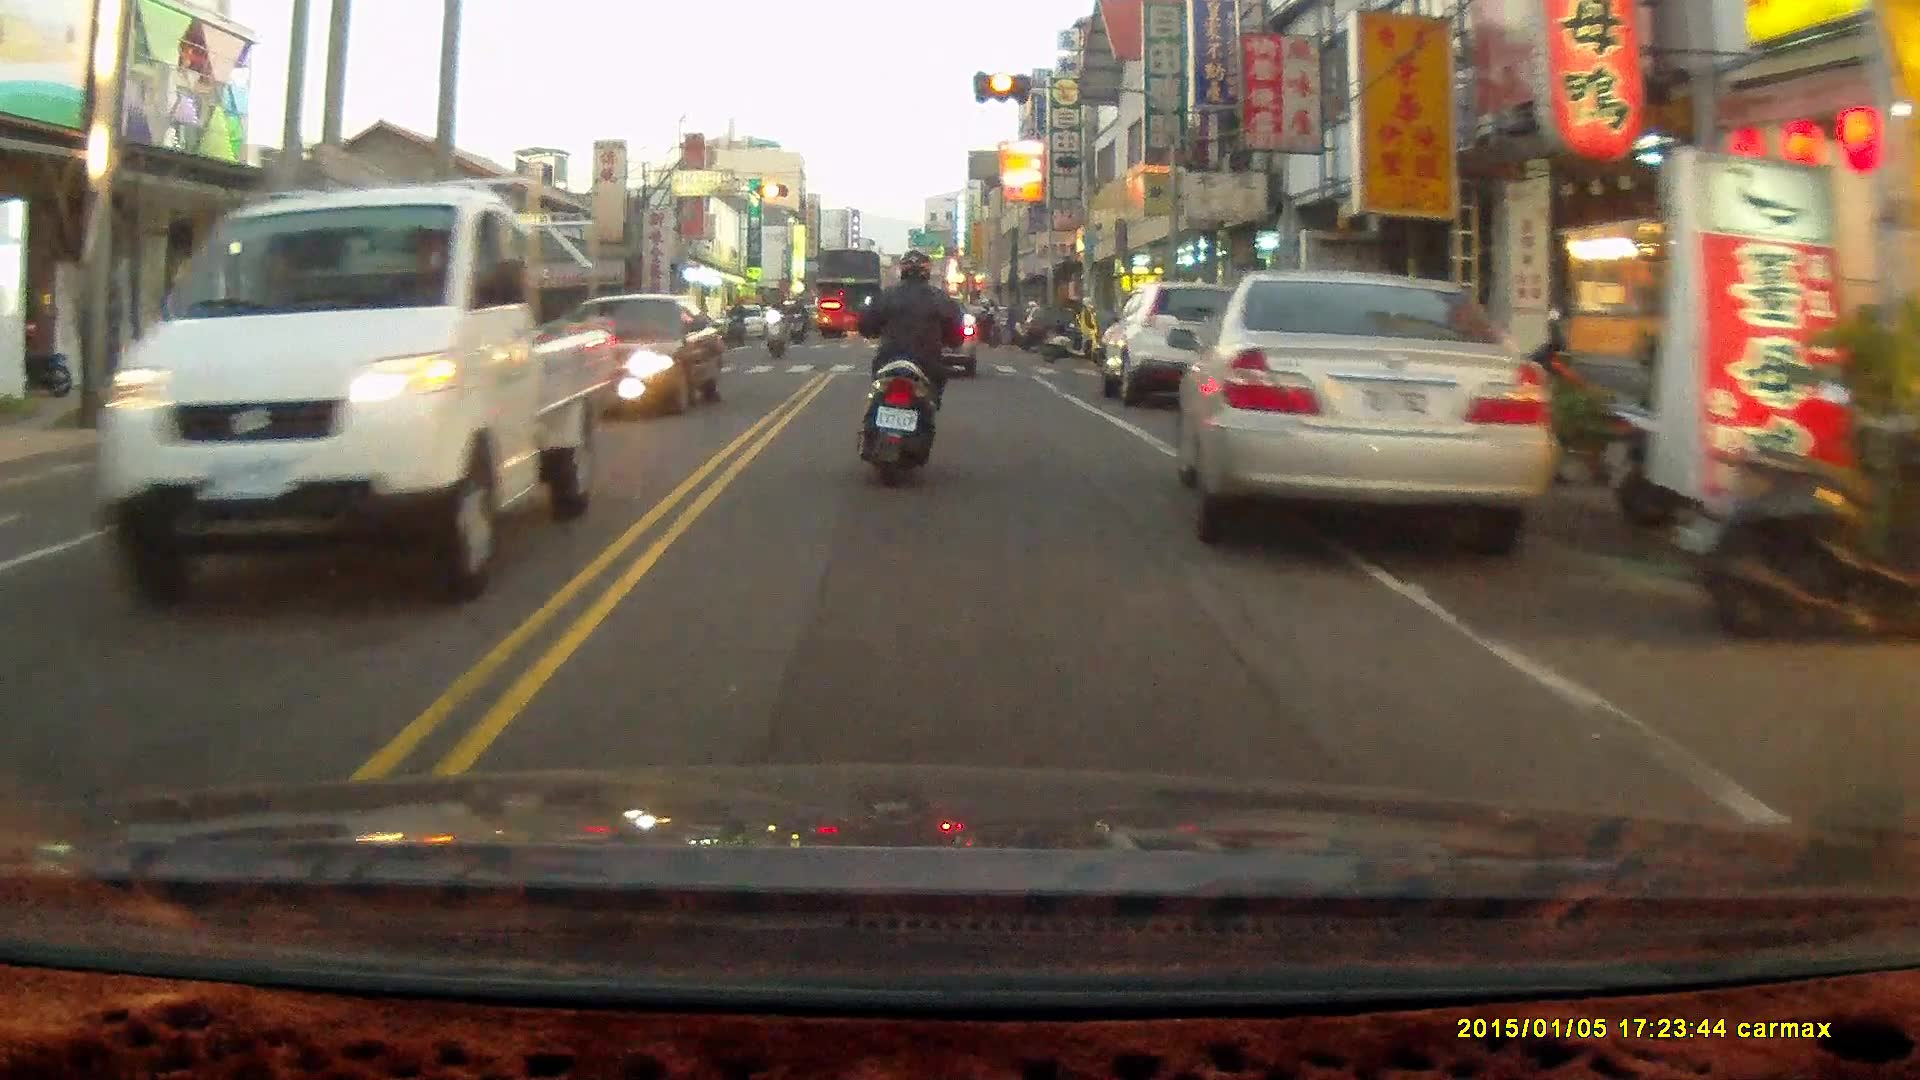pedestrian: (1076, 293, 1099, 367)
rider: (855, 249, 978, 490), (761, 290, 788, 358), (726, 295, 749, 348), (789, 293, 809, 347)
vehicle: (86, 181, 611, 608), (1173, 271, 1532, 567), (559, 293, 729, 421), (1101, 281, 1266, 408), (814, 248, 890, 336)
